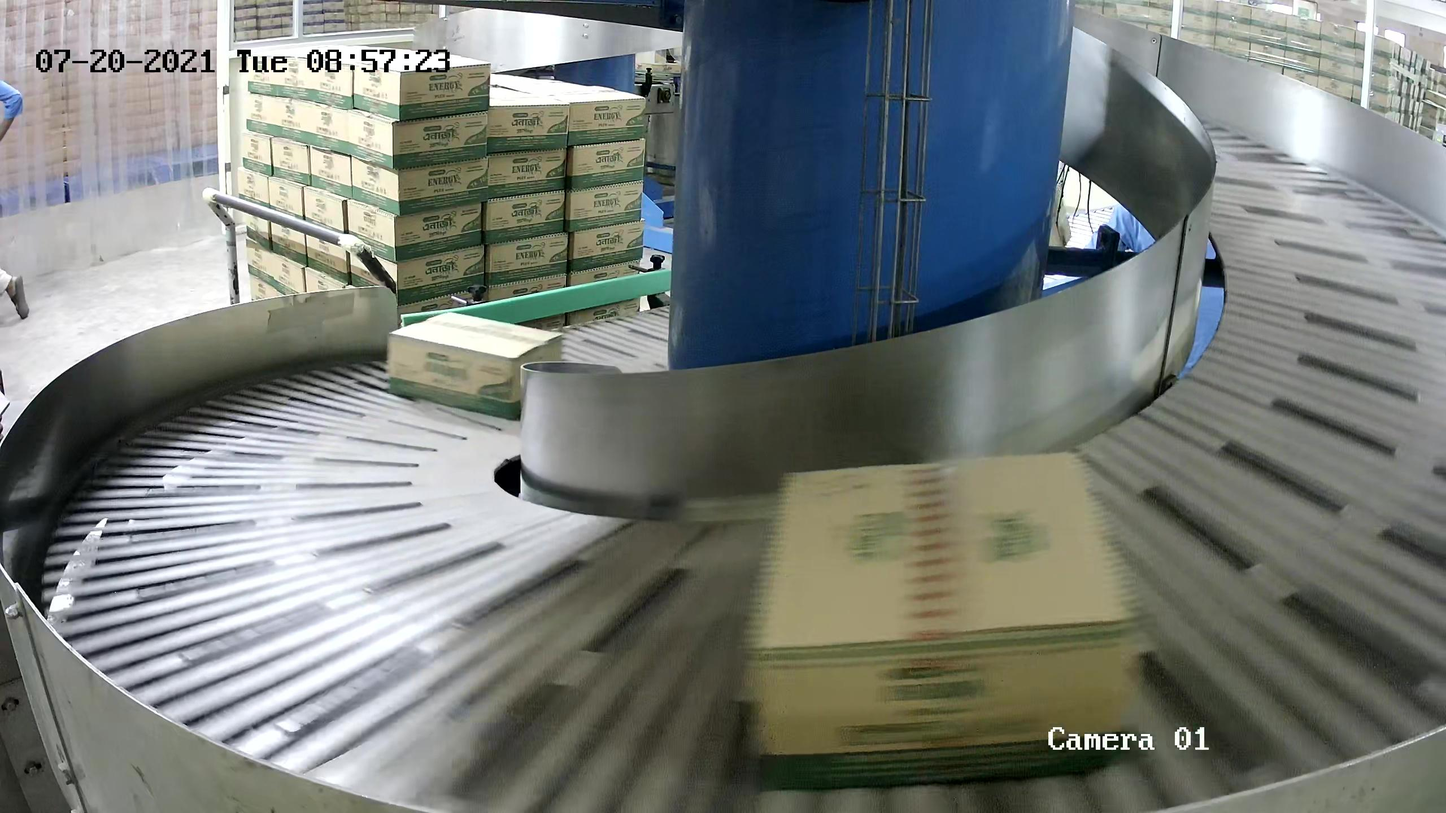Box: (738, 445, 1149, 793), (385, 310, 565, 422)
